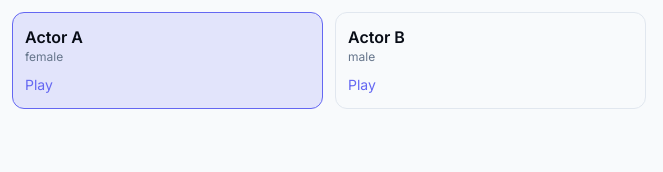
Test: reports failed audio instead of silently falling back
Click the button with aria-label "Play sample for Actor A". click: (39, 85)
box: top-left (25, 75), bottom-right (53, 95)
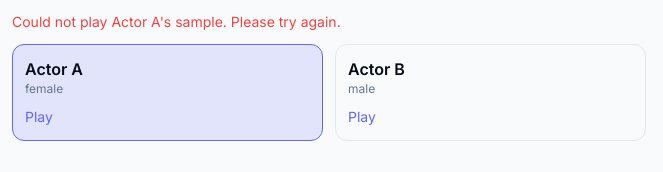
Expected: the message shows "Could not play", top-left (12, 13), bottom-right (341, 30)
